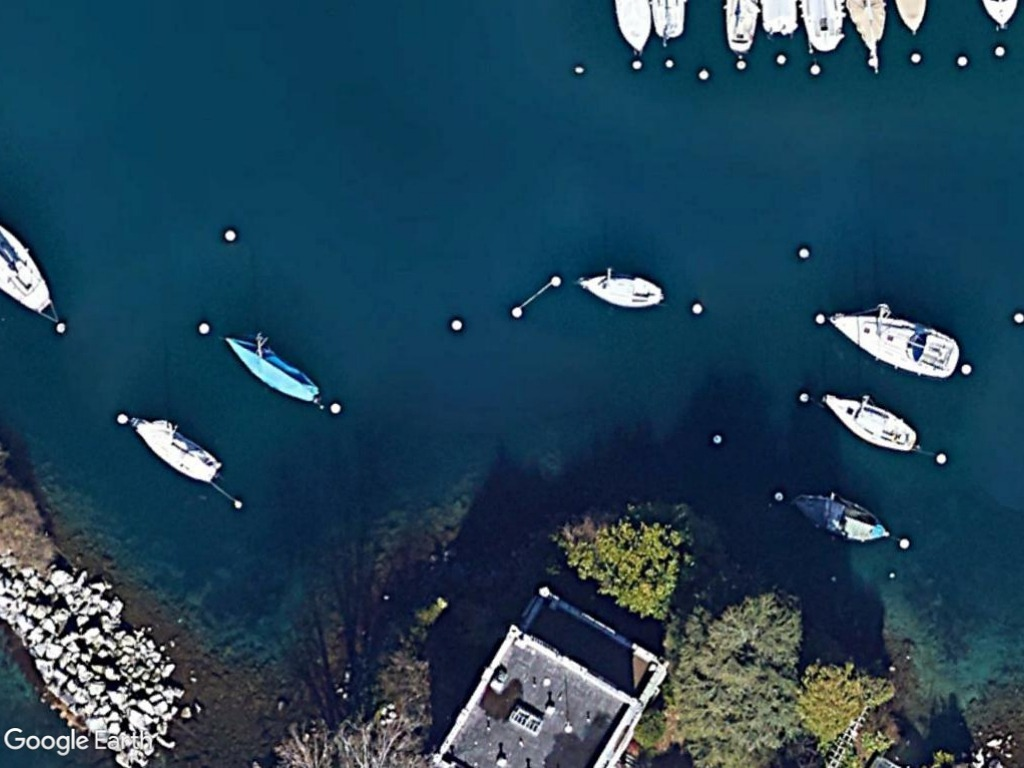boat: (823, 307, 963, 385), (214, 328, 327, 408), (813, 388, 922, 457), (783, 483, 894, 547), (133, 415, 230, 488), (572, 268, 670, 312)
